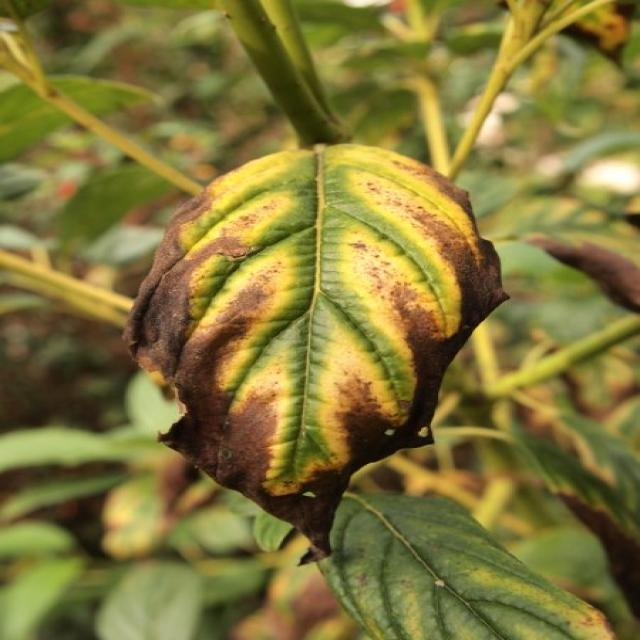Chlorosis: (121, 134, 480, 494)
